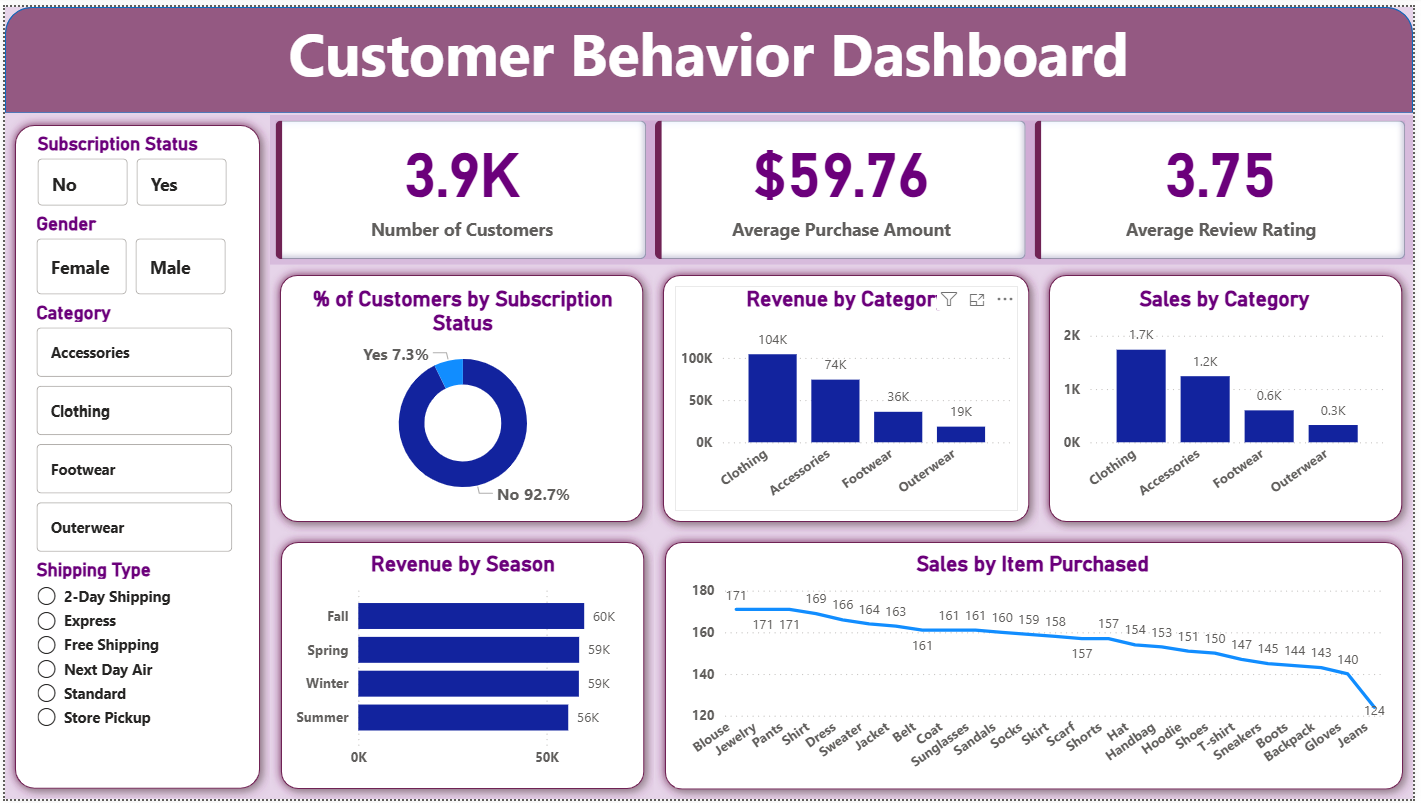

This screenshot's page, from the dashboard's own definition file:
{"tool":"powerbi","page":{"name":"Page 1","canvas":[1280,720],"ordinal":0},"visuals":[{"type":"cardVisual","fields":{"Data":["customer_behavior customer.Number of Customers","customer_behavior customer.Average Purchase Amount","customer_behavior customer.Average Review Rating"]},"box":[240.9,98.5,1038.8,136.1],"z":0},{"type":"shape","box":[0,0,1280,96.4],"z":1000},{"type":"textbox","box":[0,0,1279.1,96.4],"z":2000},{"type":"shape","box":[240.9,234.6,348.4,242.7],"z":3000},{"type":"donutChart","title":"% of Customers by Subscription Status","fields":{"Category":["customer_behavior customer.subscription_status"],"Y":["Sum(customer_behavior customer.customer_id)"]},"box":[257.9,253.4,316.1,205.1],"z":4000},{"type":"shape","box":[589.3,234.6,351,242.7],"z":5000},{"type":"shape","box":[590.8,477.1,689,243.1],"z":6000},{"type":"shape","box":[241.8,477.3,348.4,242.7],"z":7000},{"type":"shape","box":[940.3,234.6,339.4,242.7],"z":9000},{"type":"clusteredColumnChart","title":"Revenue by Category","fields":{"Category":["customer_behavior customer.category"],"Y":["Sum(customer_behavior customer.purchase_amount)"]},"box":[609,253.4,311.6,205.1],"z":10000},{"type":"clusteredColumnChart","title":"Sales by Category","fields":{"Category":["customer_behavior customer.category"],"Y":["CountNonNull(customer_behavior customer.customer_id)"]},"box":[957.3,253.4,302.7,205.1],"z":11000},{"type":"shape","box":[0,98.5,240.9,621.5],"z":12000},{"type":"advancedSlicerVisual","fields":{"Values":["customer_behavior customer.subscription_status"]},"box":[24.2,113.7,182.7,72.5],"z":13000},{"type":"advancedSlicerVisual","fields":{"Values":["customer_behavior customer.gender"]},"box":[23.9,186.2,182.6,80.7],"z":14000},{"type":"advancedSlicerVisual","fields":{"Values":["customer_behavior customer.category"]},"box":[23.9,267,189,233.9],"z":15000},{"type":"listSlicer","fields":{"Values":["customer_behavior customer.shipping_type"]},"box":[23.9,500.9,187.2,204.6],"z":16000},{"type":"clusteredBarChart","title":"Revenue by Season","fields":{"Y":["Sum(customer_behavior customer.purchase_amount)"],"Category":["customer_behavior customer.season"]},"box":[257.8,494.5,316.5,205.5],"z":17000},{"type":"lineChart","title":"Sales by Item Purchased","fields":{"Category":["customer_behavior customer.item_purchased"],"Y":["CountNonNull(customer_behavior customer.customer_id)"]},"box":[609.2,494.5,650.5,214.7],"z":17001}]}

Visuals, with their boxes in screenshot pixels (x1, y1, x2, y2), scaled from the page's 1280x720 canvas onto the 1421x803 screenshot:
cardVisual - customer_behavior customer.Number of Customers x customer_behavior customer.Average Purchase Amount: locate(267, 110, 1420, 262)
shape: locate(0, 0, 1420, 108)
textbox: locate(0, 0, 1420, 108)
shape: locate(267, 262, 654, 532)
"% of Customers by Subscription Status" donutChart: locate(286, 283, 637, 511)
shape: locate(654, 262, 1044, 532)
shape: locate(656, 532, 1420, 802)
shape: locate(268, 532, 655, 802)
shape: locate(1044, 262, 1420, 532)
"Revenue by Category" clusteredColumnChart: locate(676, 283, 1022, 511)
"Sales by Category" clusteredColumnChart: locate(1063, 283, 1399, 511)
shape: locate(0, 110, 267, 802)
advancedSlicerVisual - customer_behavior customer.subscription_status: locate(27, 127, 230, 208)
advancedSlicerVisual - customer_behavior customer.gender: locate(27, 208, 229, 298)
advancedSlicerVisual - customer_behavior customer.category: locate(27, 298, 236, 559)
listSlicer - customer_behavior customer.shipping_type: locate(27, 559, 234, 787)
"Revenue by Season" clusteredBarChart: locate(286, 552, 638, 781)
"Sales by Item Purchased" lineChart: locate(676, 552, 1398, 791)
